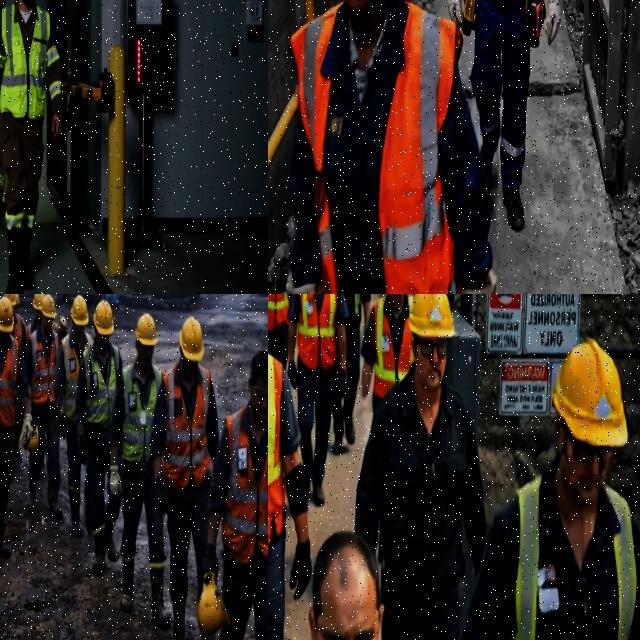Vest: (378, 2, 460, 293), (222, 406, 267, 565), (163, 363, 210, 490), (0, 4, 49, 119), (510, 477, 540, 639), (372, 297, 412, 398), (121, 364, 161, 463), (297, 294, 337, 371), (268, 354, 284, 546), (83, 345, 119, 430), (28, 330, 56, 406), (0, 338, 18, 428), (61, 334, 78, 422), (268, 294, 288, 331), (353, 294, 360, 315)
Worker: (286, 0, 495, 293), (462, 340, 639, 639), (355, 294, 484, 639), (150, 317, 218, 639), (110, 313, 170, 629), (203, 351, 267, 639), (0, 0, 61, 293), (470, 0, 530, 230), (287, 294, 347, 506), (75, 300, 121, 576), (268, 355, 310, 639), (55, 295, 92, 536), (0, 297, 32, 558), (25, 294, 61, 519), (309, 532, 383, 639), (332, 294, 370, 453), (361, 294, 412, 410), (268, 294, 291, 366), (3, 294, 26, 352), (0, 163, 3, 220)
helmet: (552, 339, 627, 447), (197, 572, 231, 634), (408, 294, 453, 339), (179, 317, 203, 362), (93, 300, 113, 336), (135, 313, 156, 346), (70, 295, 87, 326), (0, 297, 13, 333), (25, 424, 38, 454), (41, 294, 56, 319), (32, 294, 44, 311), (3, 294, 15, 306), (0, 0, 3, 5)
